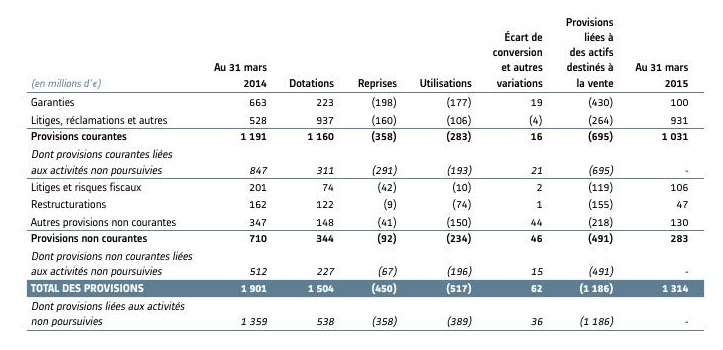table: (0, 0, 723, 350)
